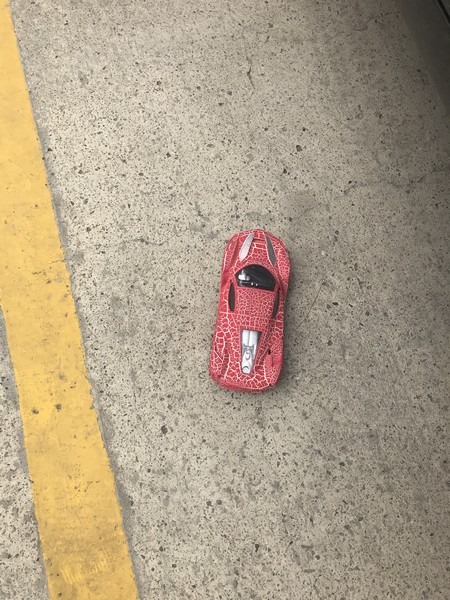RC: (207, 229, 291, 395)
